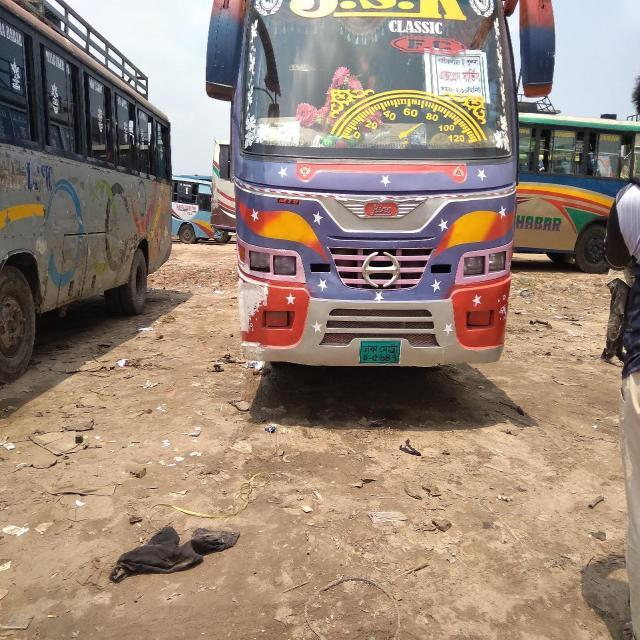numberplate: (357, 339, 401, 365)
